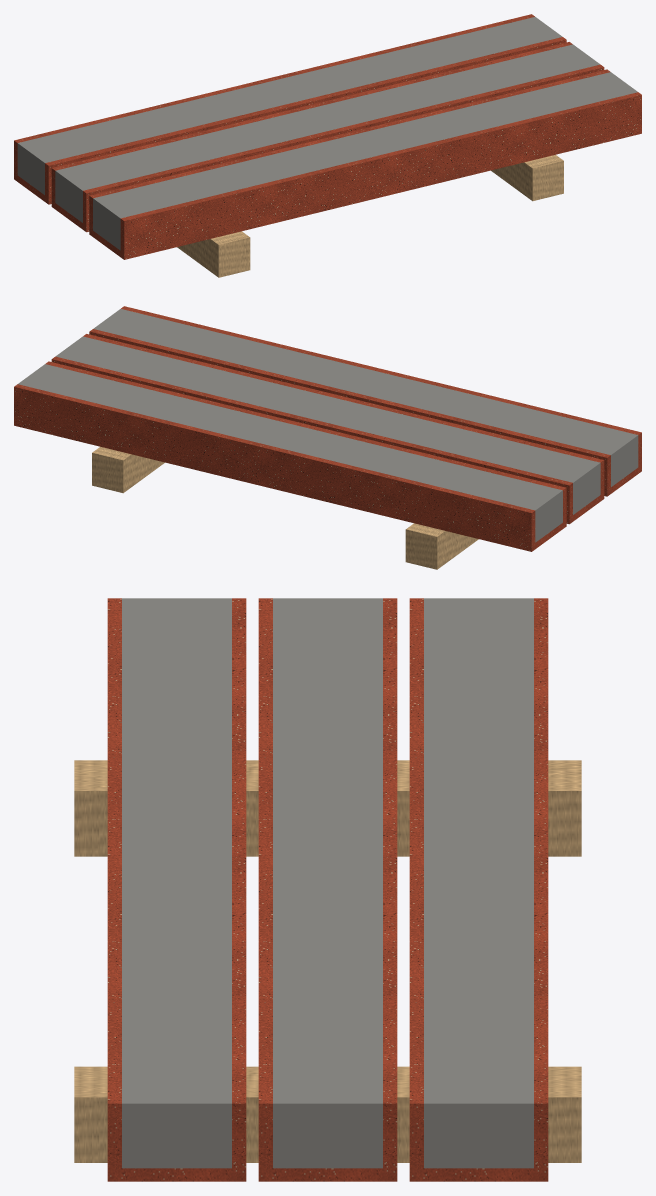
Rendered from lintel_stack.gltf.
3 views of the same model, one above another, from view 1: azimuth 30°, elevation 25°; view 2: azimuth 150°, elevation 25°; view 3: azimuth 270°, elevation 25° (orthographic). The views are drawn at different scales.
Visible parts, largest first — view 1: lintel_stack; view 2: lintel_stack; view 3: lintel_stack.
Part boxes in pixels (<box>): lintel_stack: <box>14,14,641,277</box>; lintel_stack: <box>14,306,641,569</box>; lintel_stack: <box>74,598,581,1181</box>.
Size of the model in its own units: 0.99 by 0.131 by 0.42.
Materials: 3 (2 with a texture image).
